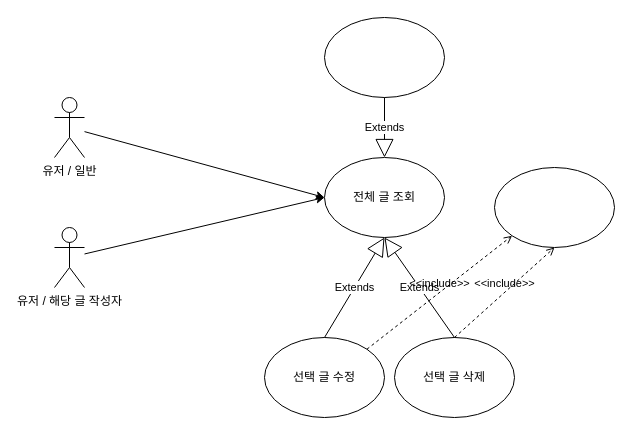
The diagram is 632 pixels wide and 435 high, and some of its shapes have lost their labels. Here are the shapes that lost their labels. From the top down, the centre of each, then its label:
(x=384, y=57): 선택 글 조회
(x=554, y=207): 사용자 인증 (비밀번호)
